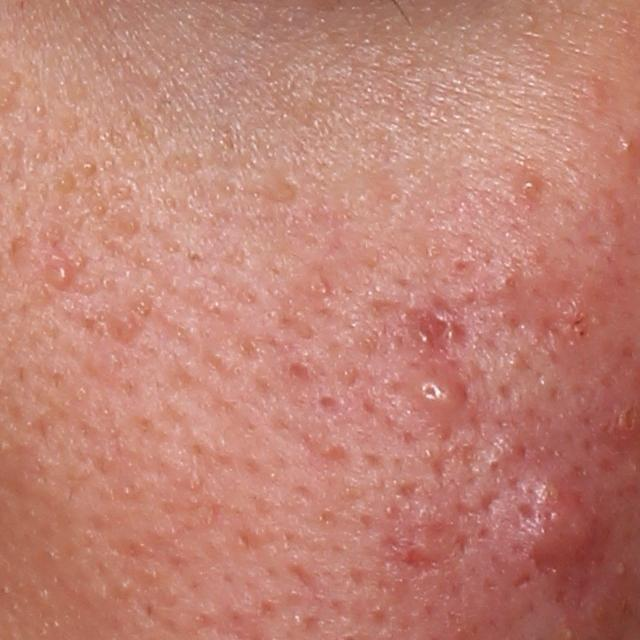atrophic_scar: (394, 545, 442, 578)
comedo: (106, 308, 147, 345), (121, 213, 144, 237), (55, 174, 74, 193), (113, 579, 132, 598), (81, 160, 98, 180), (164, 241, 181, 257), (160, 195, 177, 210), (129, 156, 145, 171), (34, 102, 47, 119), (34, 149, 48, 164), (93, 202, 107, 216), (222, 182, 236, 195)
nodule: (506, 470, 610, 572)
pustule: (398, 363, 472, 419)
